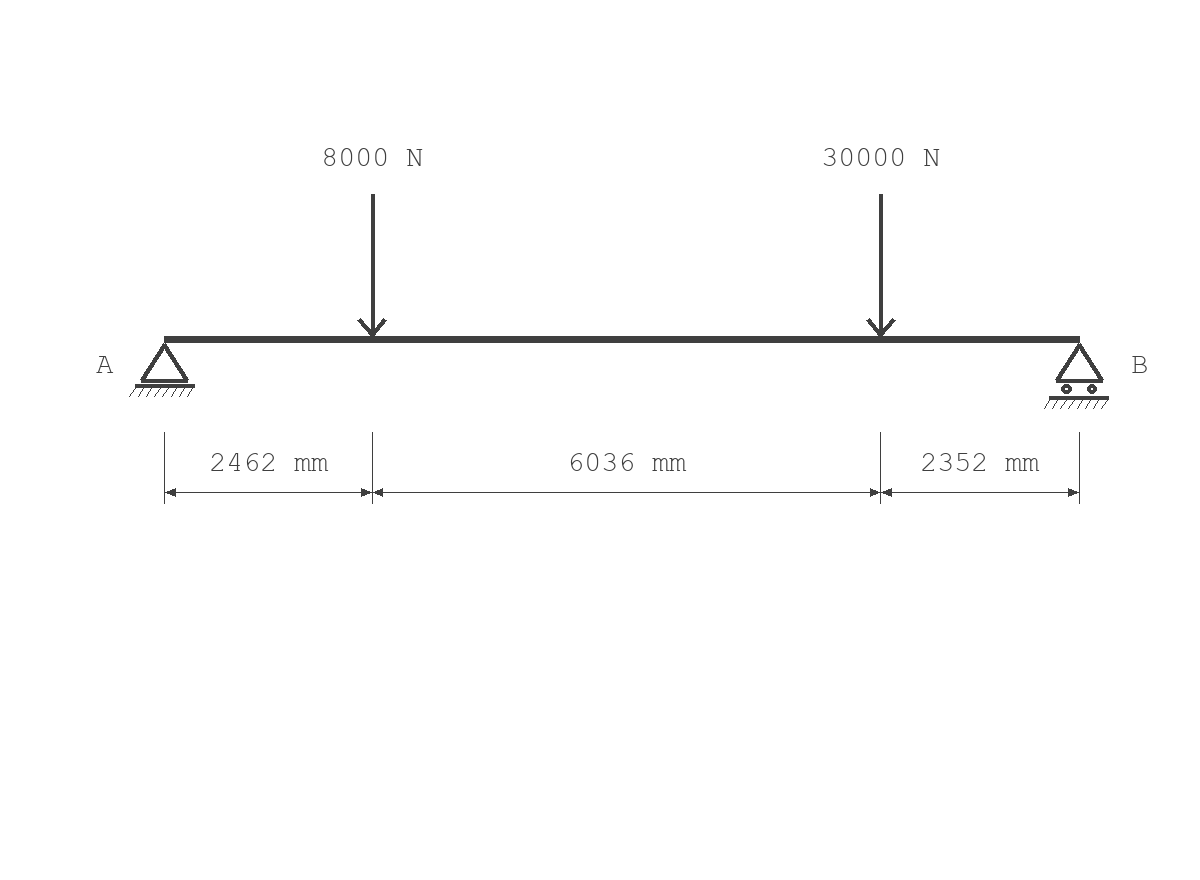pin_support: (129, 343, 195, 397)
point_load: (357, 194, 387, 337), (866, 194, 896, 337)
roller_support: (1044, 343, 1109, 409)
